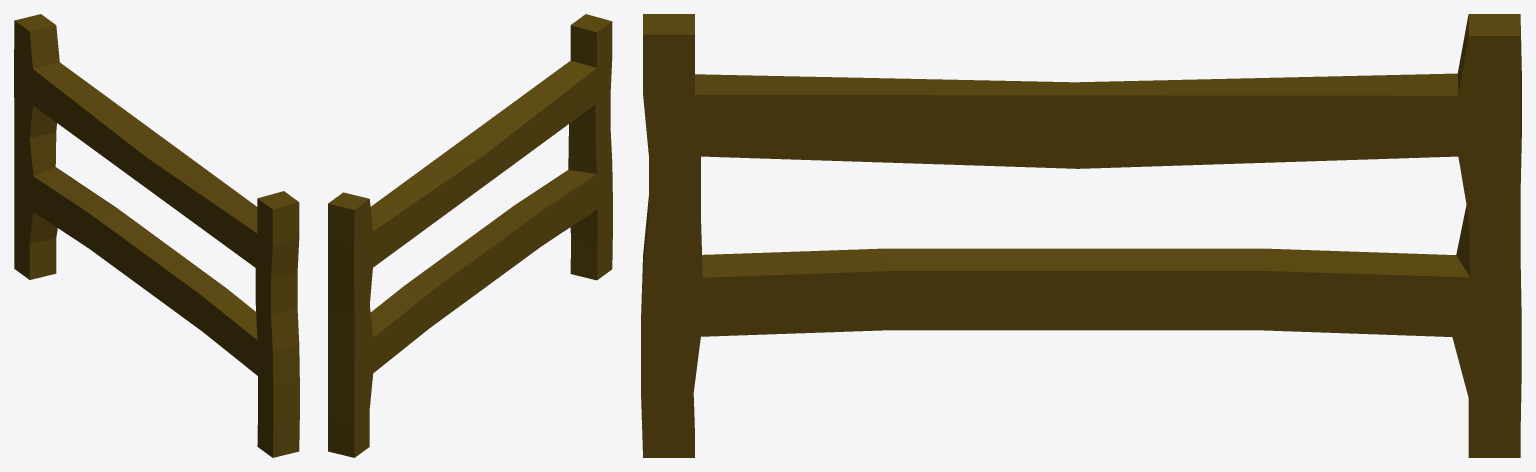
File: barrierre.fbx
3 renders of one model, left to right at view 1: azimuth 30°, elevation 25°; view 2: azimuth 150°, elevation 25°; view 3: azimuth 270°, elevation 25°, orthographic. The views are drawn at different scales.
Parts seen in each view (by area): view 1: Cube.002; view 2: Cube.002; view 3: Cube.002.
Part boxes in pixels (x1,y1,x2,y2): Cube.002: (14, 14, 299, 457); Cube.002: (328, 14, 612, 457); Cube.002: (641, 14, 1521, 457).
Size of the model in its own units: 21.81 by 192 by 362.
